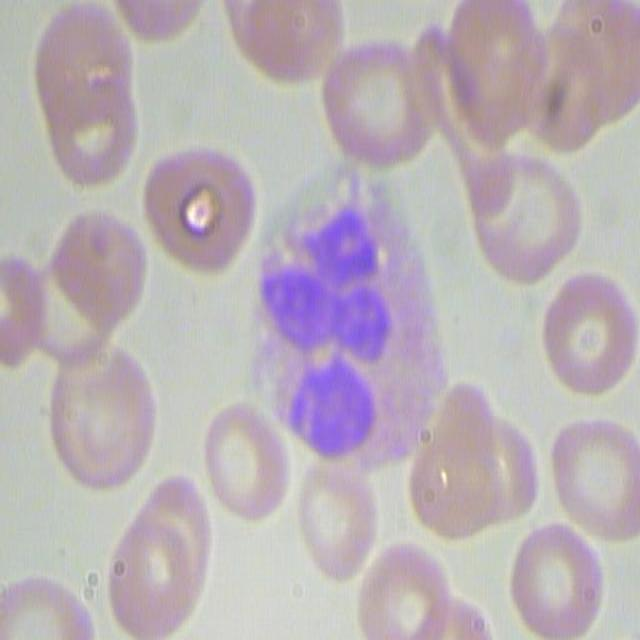RBC: (402, 376, 532, 542), (411, 0, 549, 149), (36, 0, 142, 188), (515, 2, 638, 158), (30, 205, 145, 364), (106, 476, 212, 639), (459, 146, 582, 286), (41, 342, 156, 491), (146, 136, 255, 285), (319, 45, 434, 174), (533, 269, 637, 402), (506, 515, 606, 637), (545, 409, 637, 541), (197, 401, 291, 528), (219, 0, 342, 86), (354, 538, 451, 638), (0, 572, 92, 640), (0, 247, 41, 373), (100, 0, 211, 46)
WBC: (256, 176, 459, 450)
